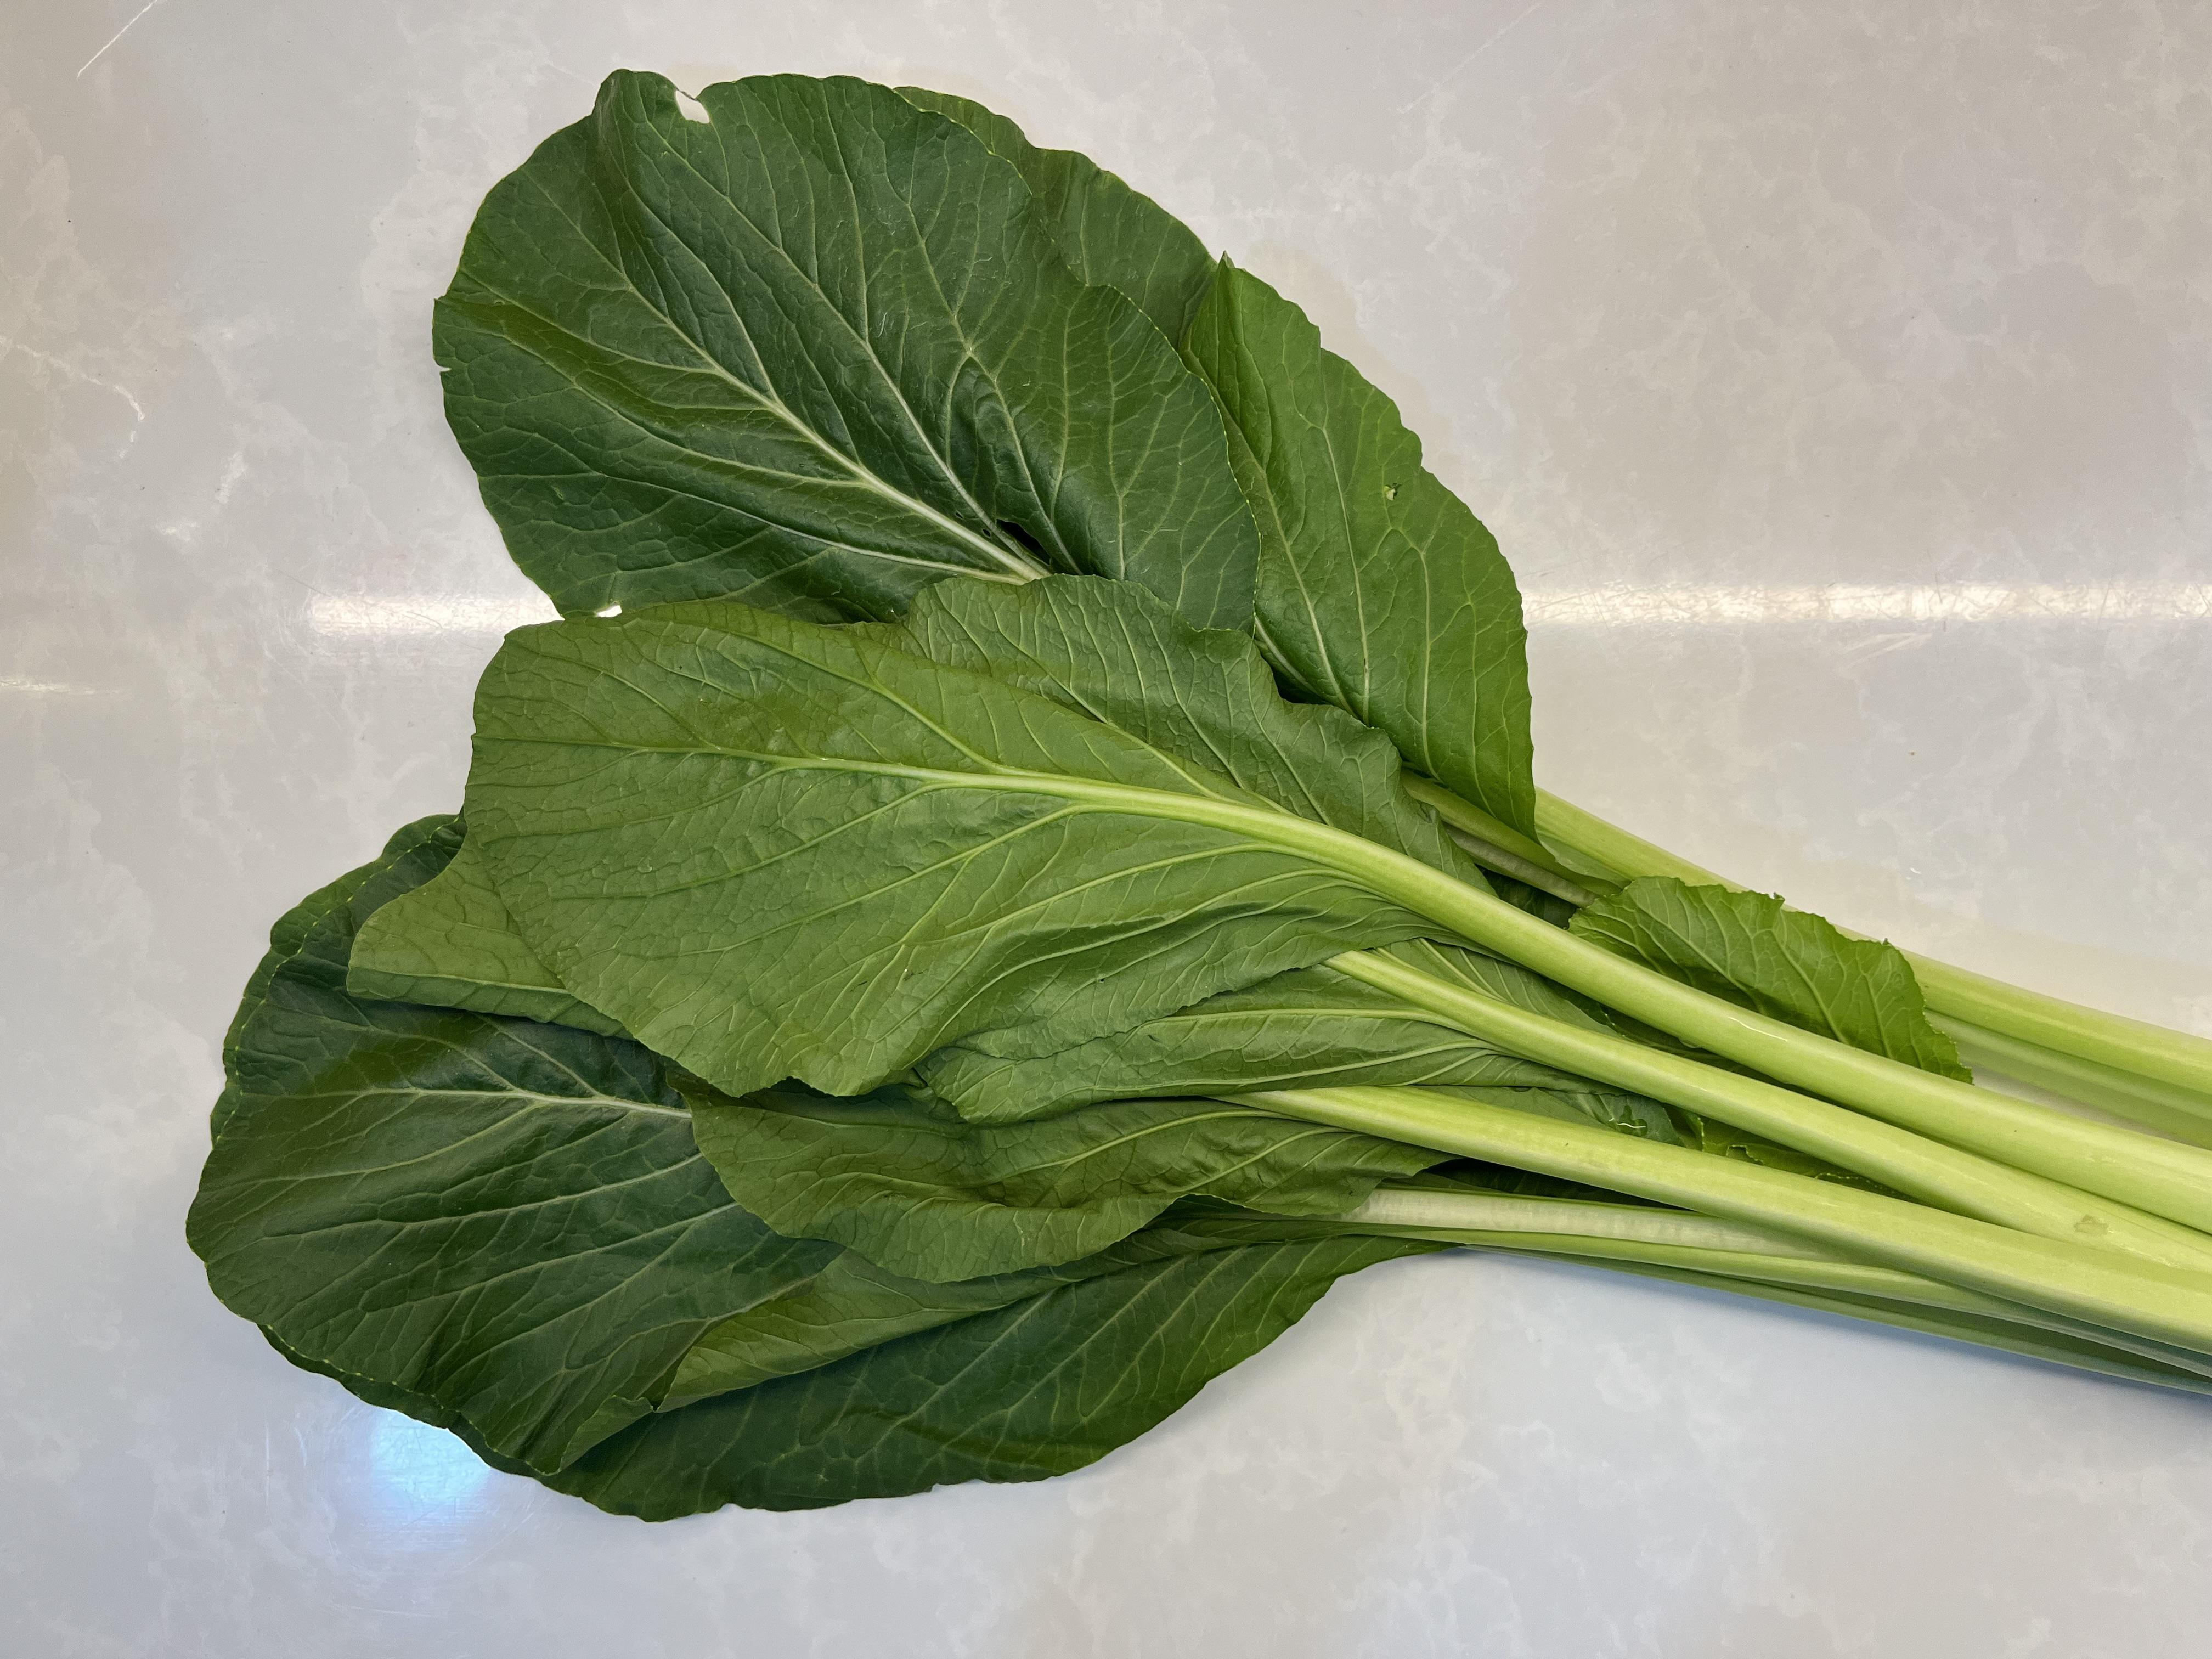Healthy-Pechay: (329, 77, 2128, 1514)
